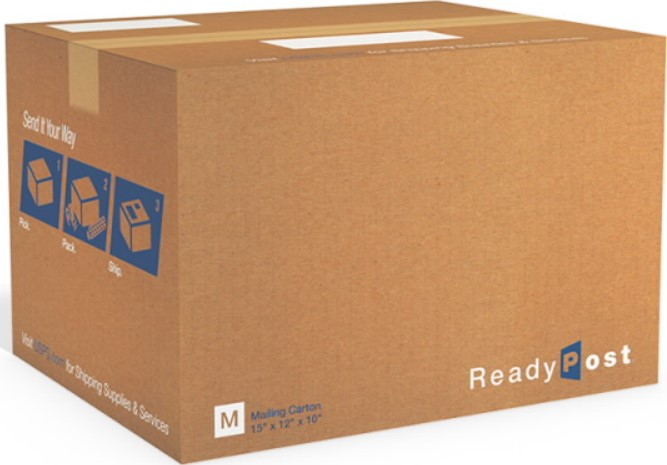stock: (5, 3, 663, 459)
